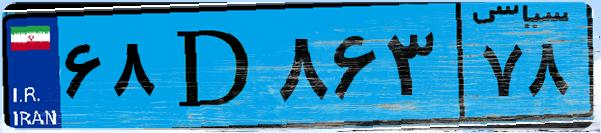3: (385, 28, 445, 110)
6: (330, 28, 385, 110), (57, 26, 110, 100)
7: (475, 38, 525, 113)
8: (270, 28, 330, 110), (525, 38, 570, 115), (110, 28, 158, 98)
D: (158, 12, 270, 120)
